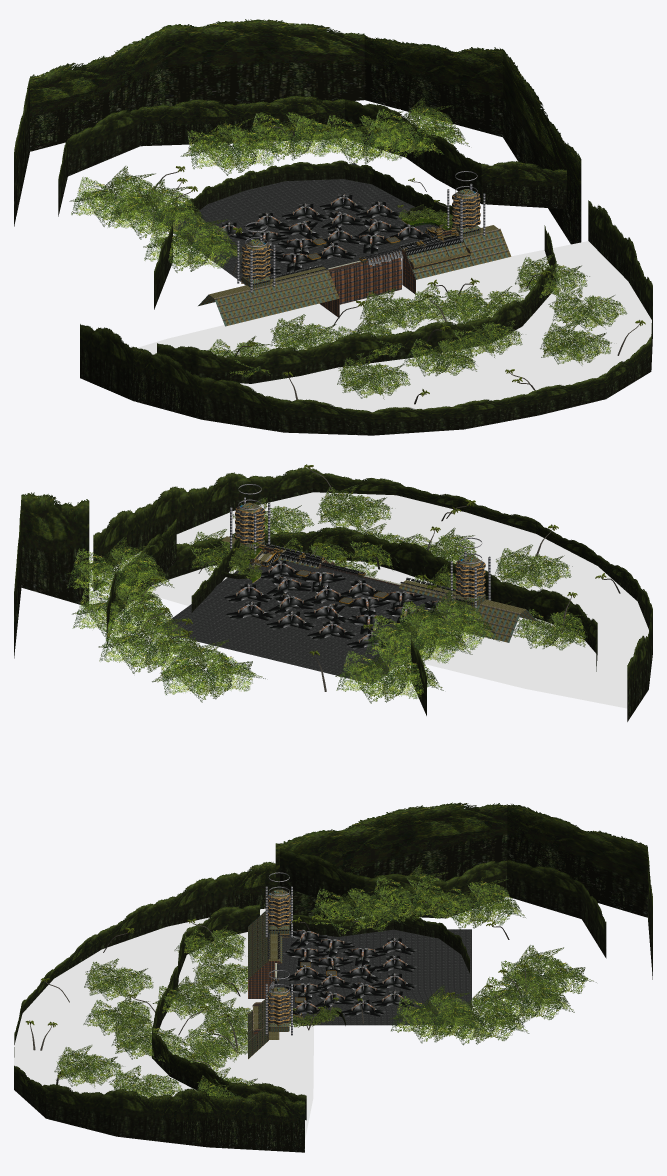
Rendered from cca-jungle-mountain.obj.
3 renders of one model, top to bottom at view 1: azimuth 30°, elevation 25°; view 2: azimuth 150°, elevation 25°; view 3: azimuth 270°, elevation 25°, orthographic. The views are drawn at different scales.
Parts seen in each view (by area): view 1: mesh_758, mesh_681, mesh_760, mesh_759, mesh_761, mesh_874, mesh_757, mesh_983, mesh_992, mesh_991, mesh_993, mesh_999 (+18 smaller); view 2: mesh_681, mesh_760, mesh_874, mesh_761, mesh_758, mesh_993, mesh_992, mesh_982, mesh_999, mesh_983, mesh_1000, mesh_759 (+12 smaller); view 3: mesh_681, mesh_758, mesh_760, mesh_759, mesh_874, mesh_761, mesh_992, mesh_983, mesh_982, mesh_757, mesh_999, mesh_991 (+16 smaller).
Boxes of the visible parts, x1,y1,x2,y2 form: mesh_758: (14, 19, 581, 244); mesh_681: (137, 241, 651, 412); mesh_760: (80, 200, 652, 435); mesh_759: (58, 95, 566, 309); mesh_761: (157, 225, 556, 383); mesh_874: (153, 163, 438, 285); mesh_757: (185, 160, 453, 223); mesh_983: (107, 178, 209, 239); mesh_992: (367, 97, 469, 158); mesh_991: (143, 212, 242, 272); mesh_993: (180, 117, 287, 175); mesh_999: (69, 166, 165, 226); mesh_681: (95, 492, 648, 708); mesh_760: (93, 467, 652, 721); mesh_874: (161, 559, 471, 682); mesh_761: (137, 526, 597, 671); mesh_758: (14, 492, 89, 658); mesh_993: (152, 636, 265, 702); mesh_992: (65, 536, 174, 600); mesh_982: (98, 610, 199, 673); mesh_999: (335, 639, 443, 703); mesh_983: (364, 603, 472, 664); mesh_1000: (72, 578, 178, 640); mesh_759: (106, 518, 426, 715); mesh_681: (14, 908, 313, 1139); mesh_758: (275, 802, 652, 979); mesh_760: (14, 862, 304, 1152); mesh_759: (280, 848, 606, 958); mesh_874: (279, 929, 471, 1025); mesh_761: (152, 904, 306, 1120); mesh_992: (389, 985, 487, 1043); mesh_983: (368, 864, 464, 922); mesh_982: (478, 966, 574, 1023); mesh_757: (289, 913, 469, 973); mesh_999: (429, 877, 525, 929); mesh_991: (308, 888, 405, 935).
Size of the model in its own units: 10657 by 3498 by 12199.
Materials: 34 (33 with a texture image).
